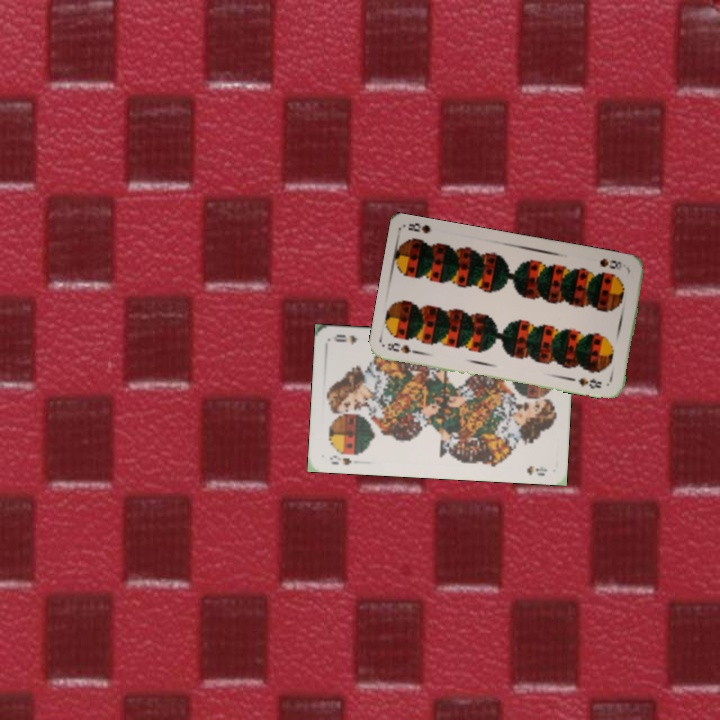S8: (383, 338, 423, 357), (596, 254, 624, 272)
SO: (326, 451, 354, 467)
